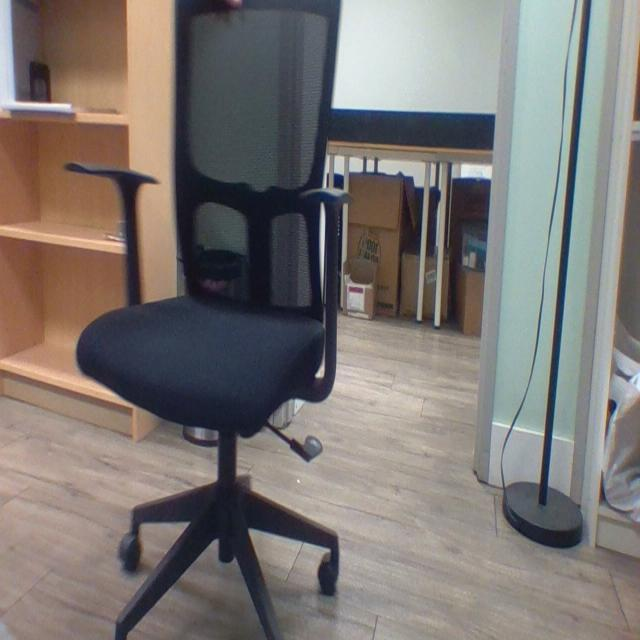chair: (58, 3, 369, 640)
